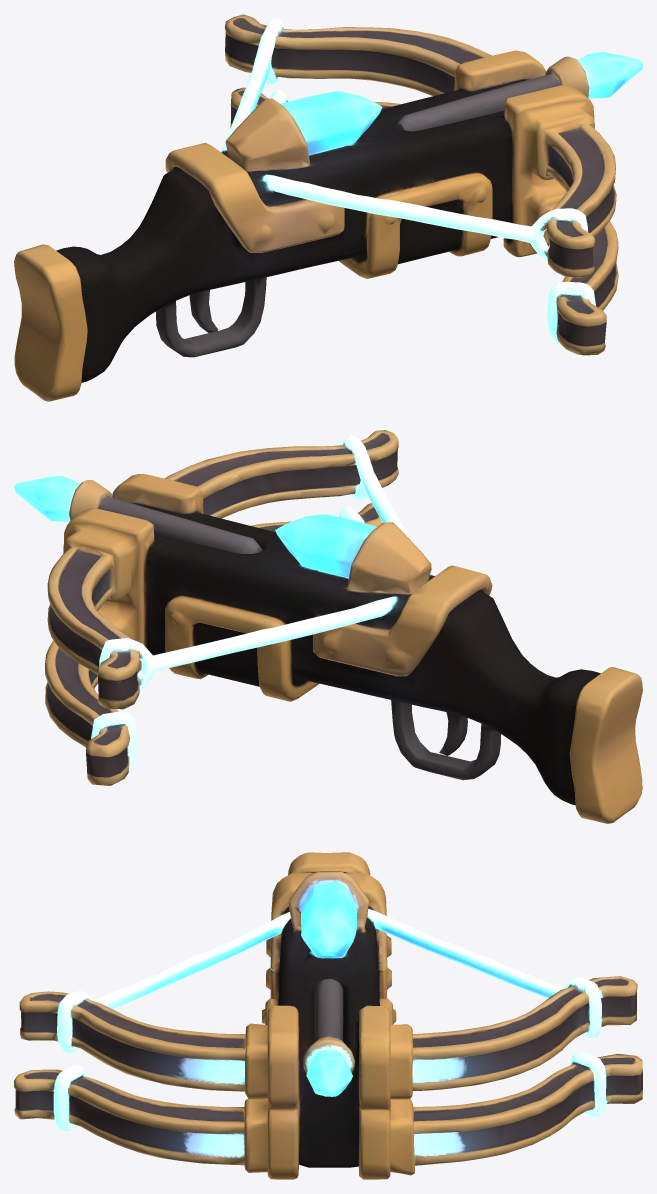
File: Arm_thunder_crossbow-CO2rJrji.glb
3 renders of one model, top to bottom at view 1: azimuth 30°, elevation 25°; view 2: azimuth 150°, elevation 25°; view 3: azimuth 270°, elevation 25°, orthographic. The views are drawn at different scales.
Parts seen in each view (by area): view 1: Arm_thunder_crossbow; view 2: Arm_thunder_crossbow; view 3: Arm_thunder_crossbow.
Part boxes in pixels (box(x1,y1,x2,y2)): Arm_thunder_crossbow: box(14, 14, 642, 401); Arm_thunder_crossbow: box(14, 430, 642, 823); Arm_thunder_crossbow: box(14, 852, 642, 1179).
Size of the model in its own units: 1.45 by 0.5256 by 1.33.
Materials: 1 (1 with a texture image).
